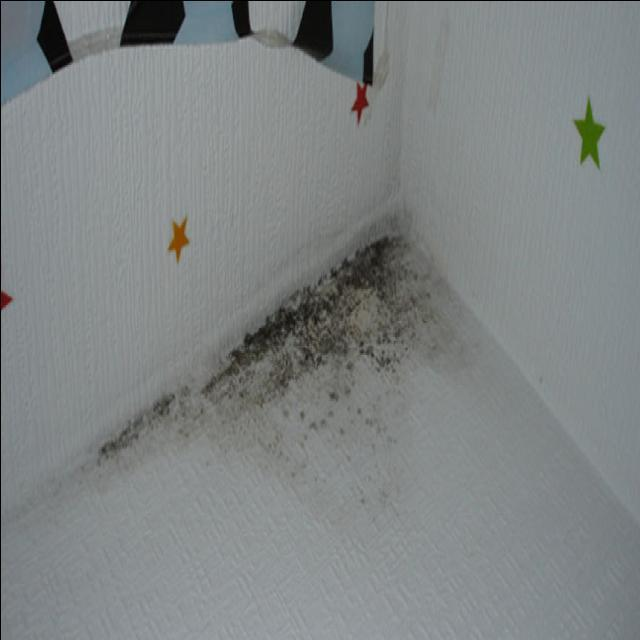tile: (94, 224, 447, 519)
